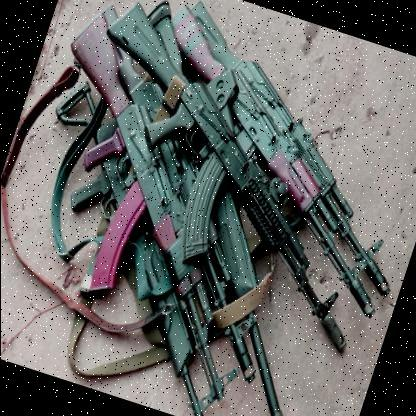rifle: (38, 0, 416, 351), (0, 16, 320, 404), (126, 1, 416, 296)
